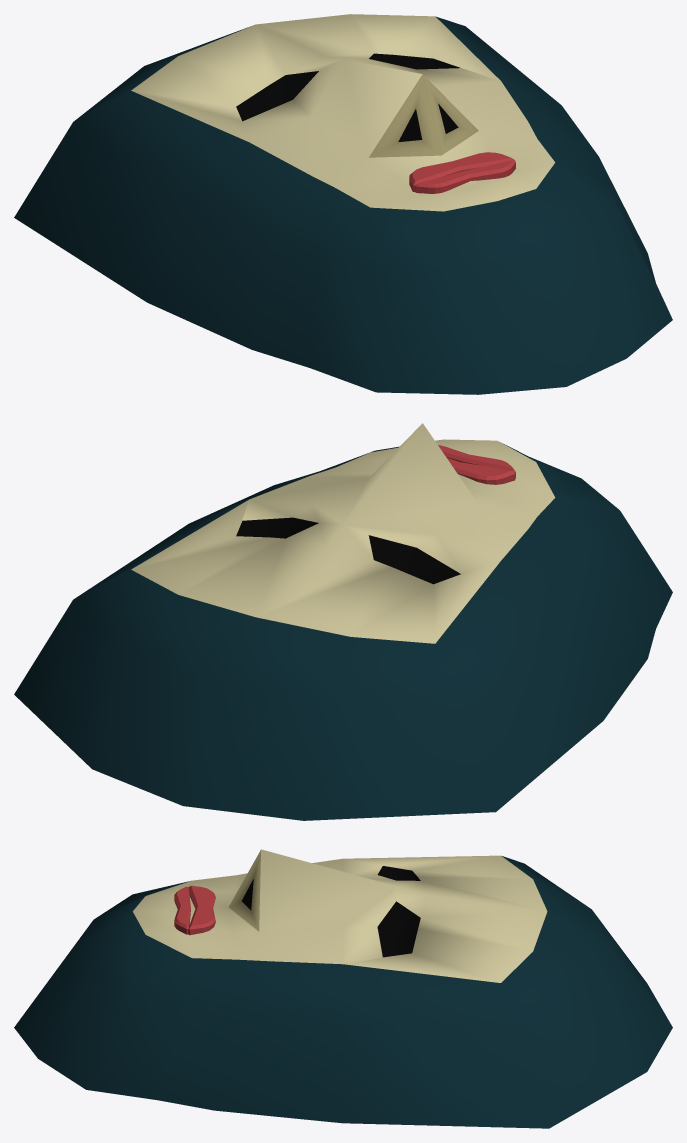
File: visage.fbx
3 renders of one model, top to bottom at view 1: azimuth 30°, elevation 25°; view 2: azimuth 150°, elevation 25°; view 3: azimuth 270°, elevation 25°, orthographic. The views are drawn at different scales.
Parts seen in each view (by area): view 1: visage, visage_lips; view 2: visage, visage_lips; view 3: visage, visage_lips.
Part boxes in pixels (<box>): visage: <box>14,14,672,394</box>; visage_lips: <box>409,152,515,193</box>; visage: <box>14,423,672,820</box>; visage_lips: <box>438,445,515,484</box>; visage: <box>14,849,672,1128</box>; visage_lips: <box>174,885,215,935</box>.
Size of the model in its own units: 1.84 by 0.7582 by 2.54.
